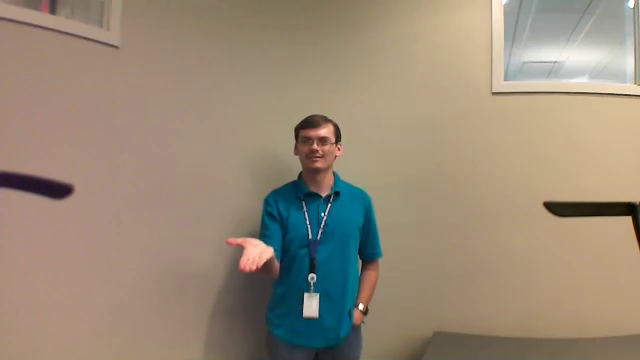land: (219, 232, 279, 275)
